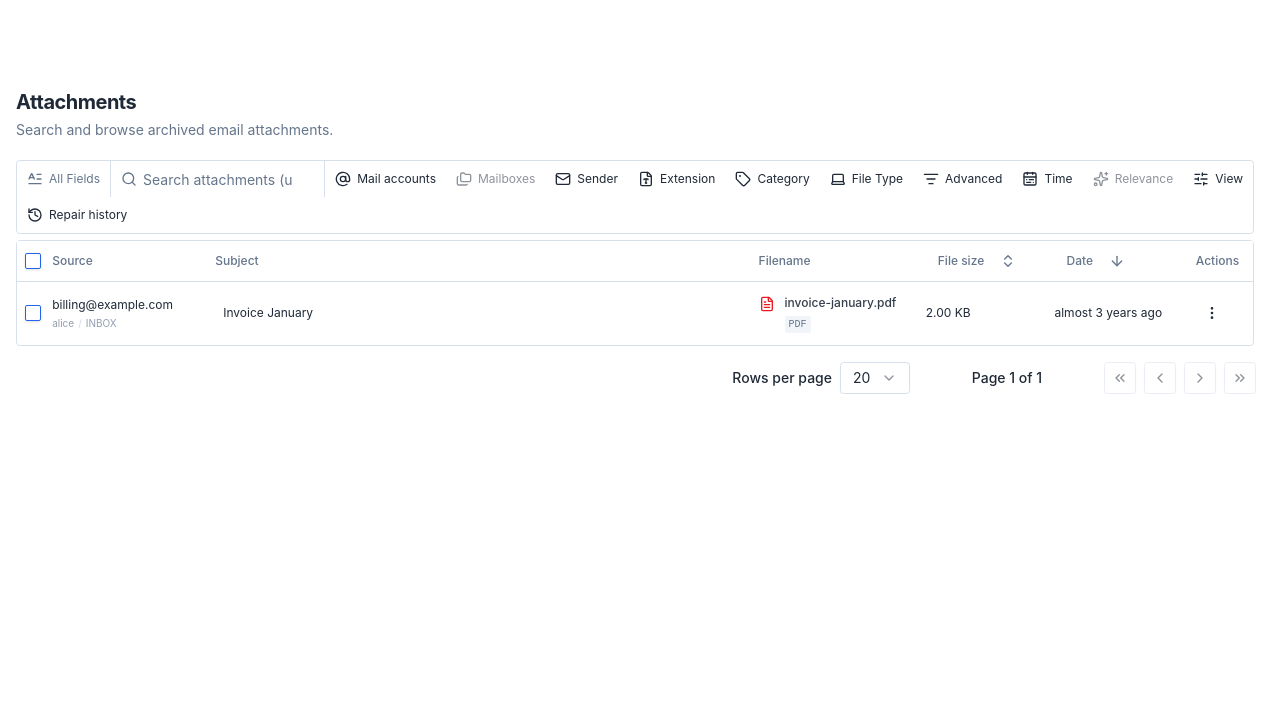
Test case: attachment repair › repairs the message of a row
Click the button named "Open menu" in the row of "billing@example.com". click: (1212, 313)
box: [1196, 297, 1228, 329]
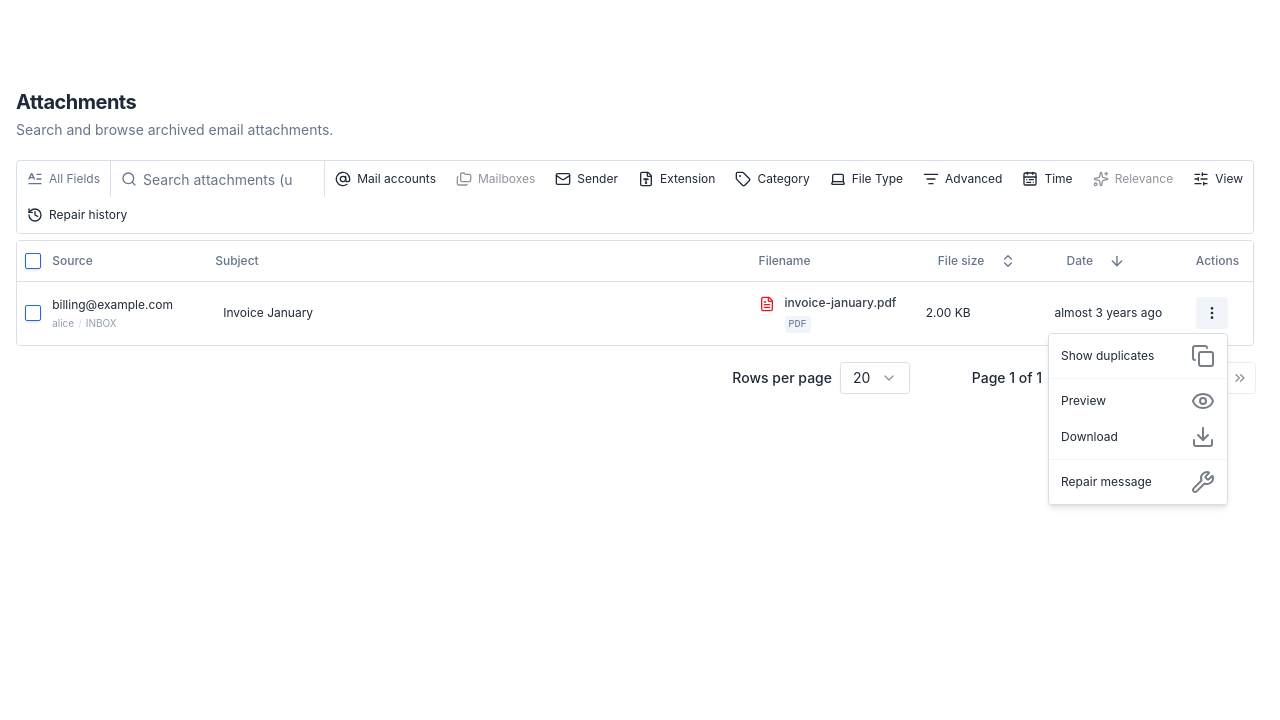
Click the menu item "Repair message". click: (1138, 482)
box: [1053, 464, 1223, 500]
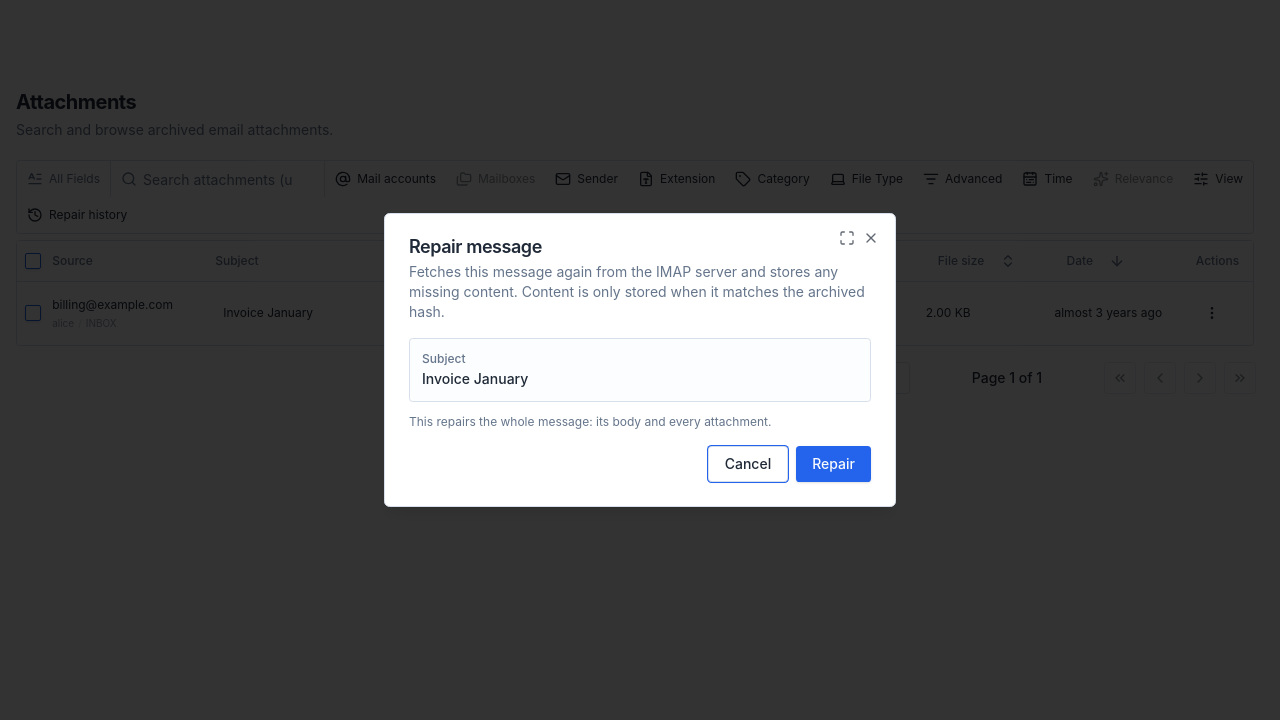
Expected: the text "Invoice January" is shown, [422, 370, 528, 387]
Click the button "Repair". click: (834, 464)
box: [796, 446, 871, 482]
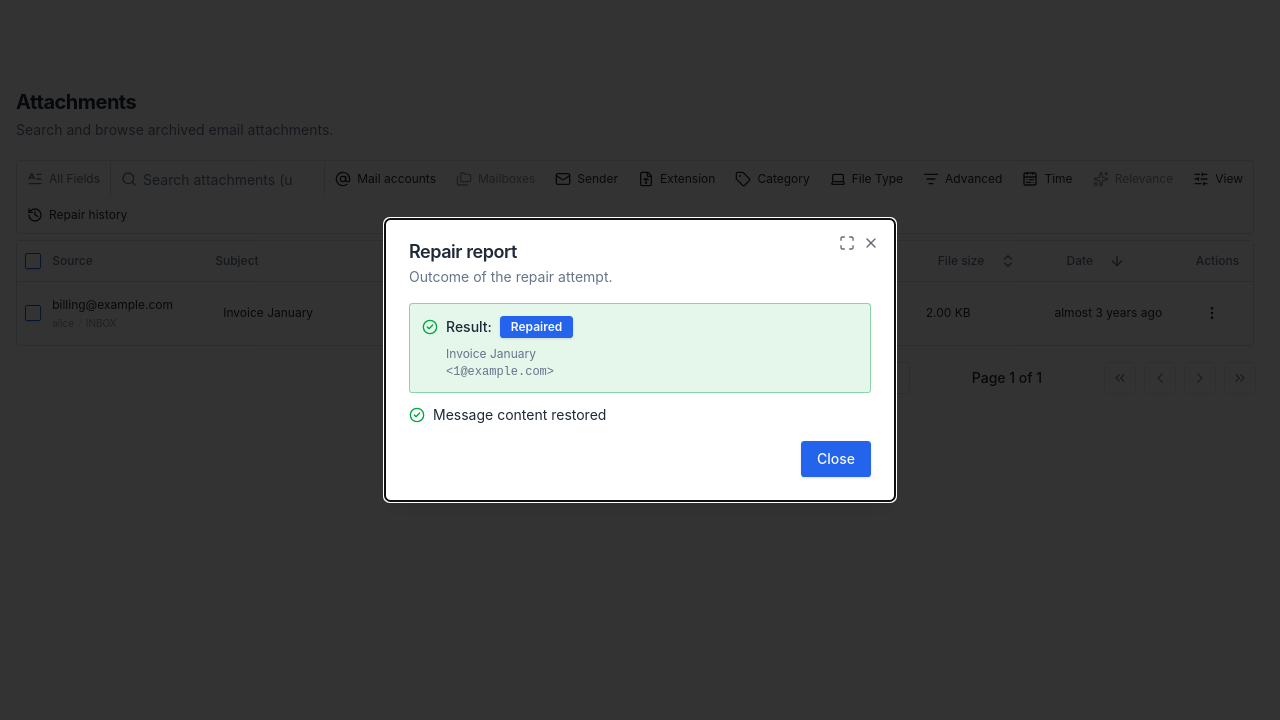
Expected: the text "Message content restored" is shown, [433, 405, 606, 425]
Click the button named "Close". click: (871, 243)
box: [863, 235, 879, 251]
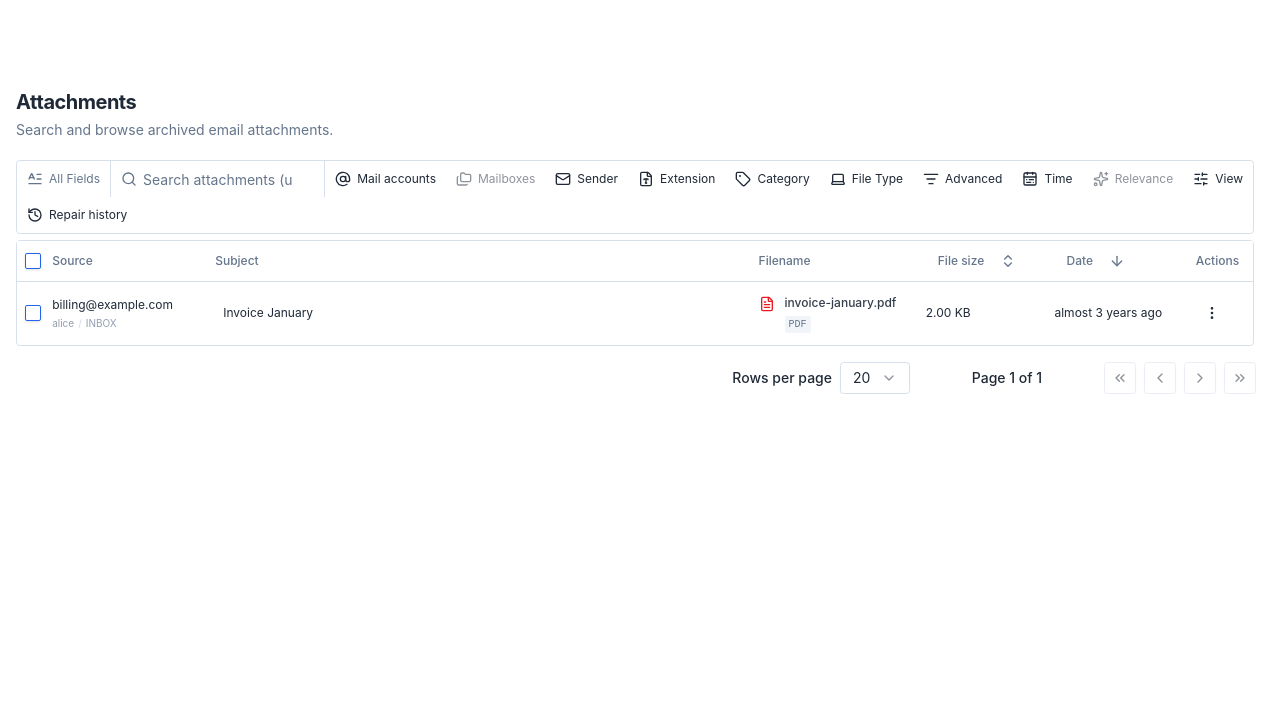
Expected: the dialog is gone
